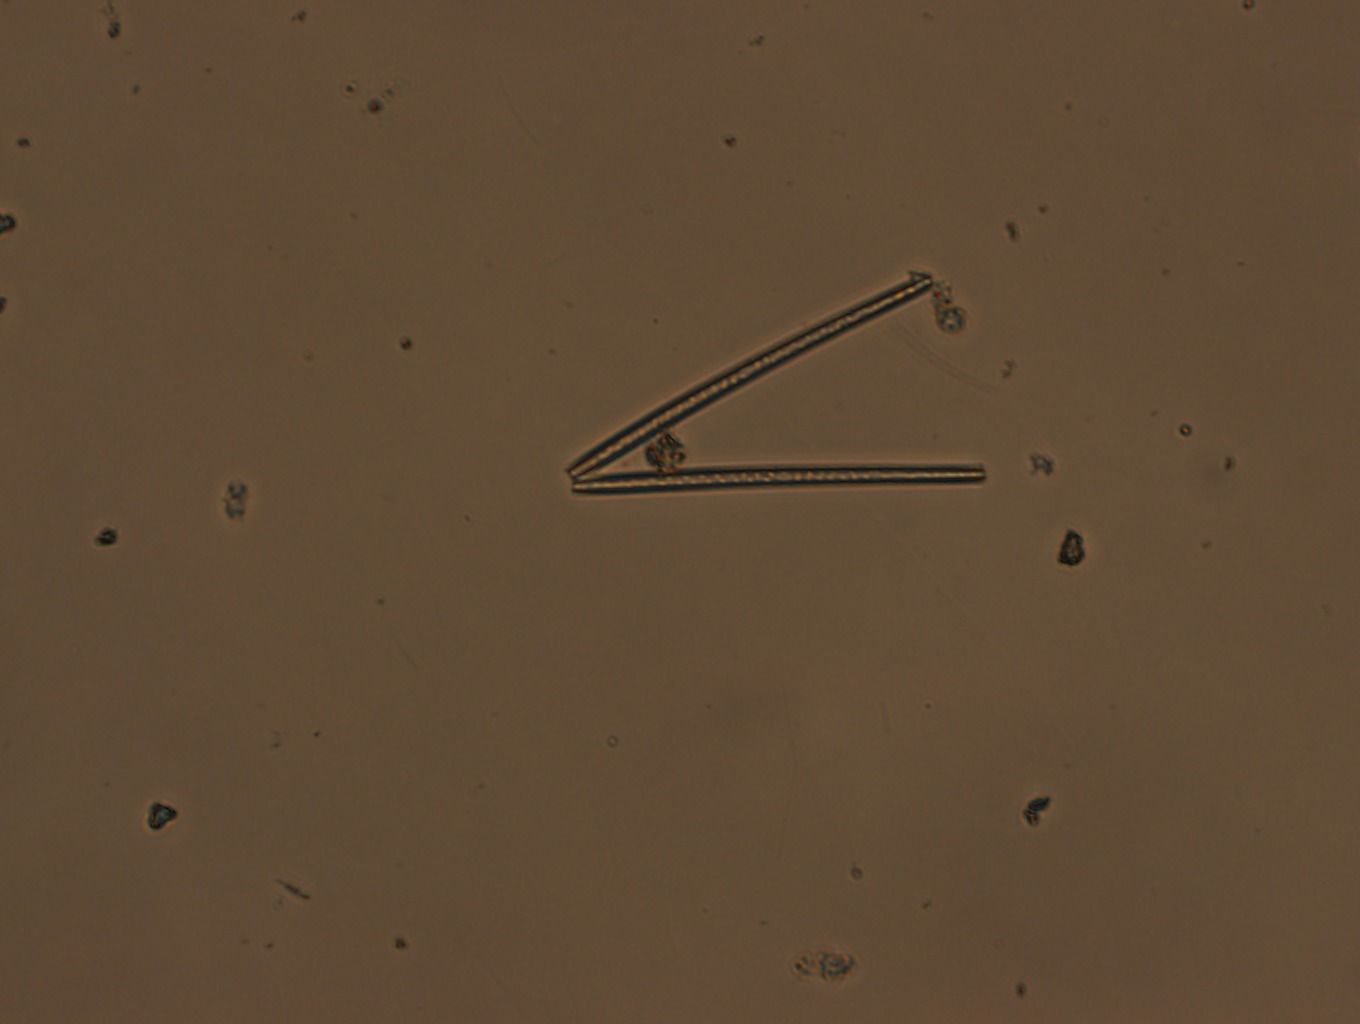thalassionema frauenfeldii: (552, 251, 991, 502)
